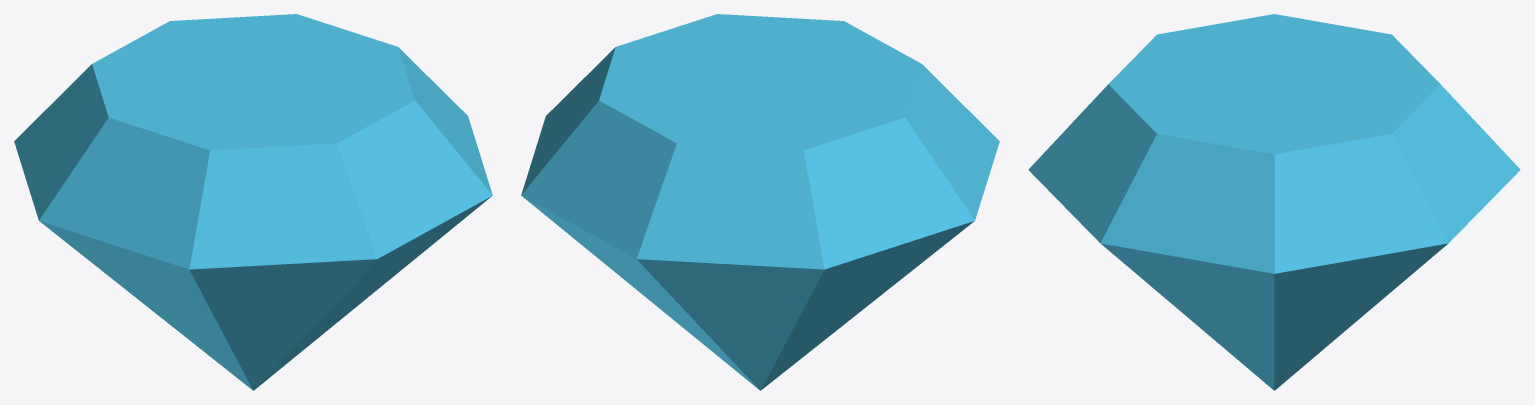
File: Diamond.fbx
The picture shows the model from 3 angles, left to right: view 1: azimuth 30°, elevation 25°; view 2: azimuth 150°, elevation 25°; view 3: azimuth 270°, elevation 25°; orthographic projection.
Visible parts, largest first — view 1: diamond; view 2: diamond; view 3: diamond.
Part boxes in pixels (bbox=[...]): diamond: bbox=[14, 14, 492, 390]; diamond: bbox=[521, 14, 999, 390]; diamond: bbox=[1028, 14, 1520, 390].
Size of the model in its own units: 15.12 by 10.39 by 15.12.
